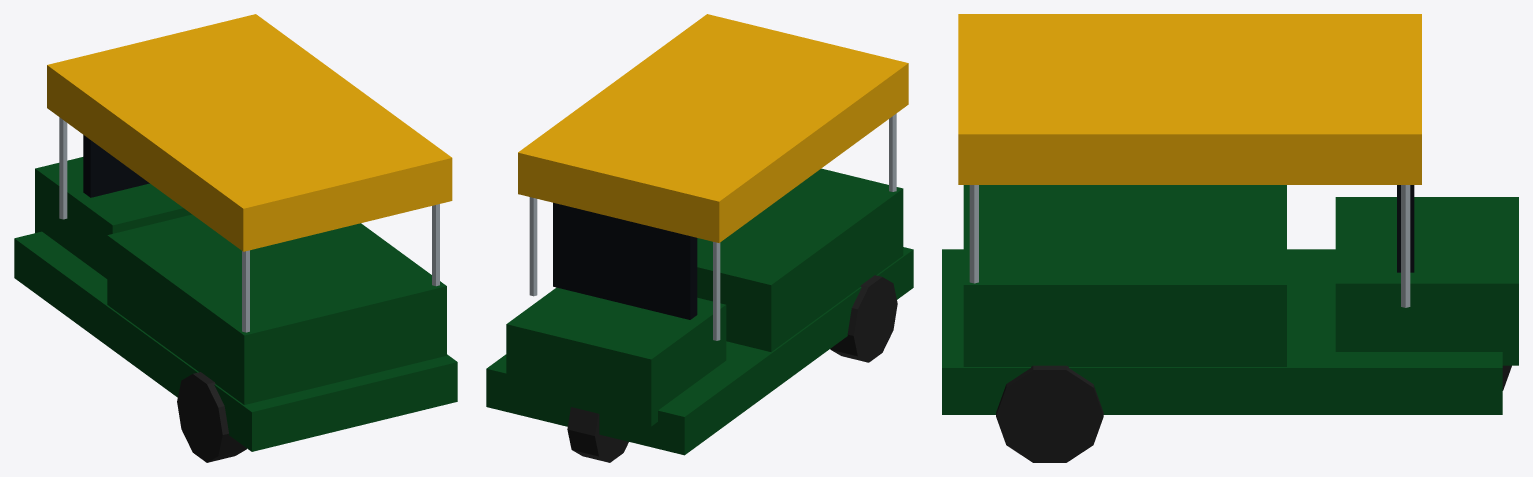
The model's file is auto_rickshaw.fbx.
3 views of the same model, side by side, from view 1: azimuth 30°, elevation 25°; view 2: azimuth 150°, elevation 25°; view 3: azimuth 270°, elevation 25° (orthographic). The views are drawn at different scales.
Parts seen in each view (by area): view 1: auto_rickshaw; view 2: auto_rickshaw; view 3: auto_rickshaw.
Part boxes in pixels (x1,y1,x2,y2): auto_rickshaw: [14, 14, 457, 462]; auto_rickshaw: [486, 14, 913, 462]; auto_rickshaw: [942, 14, 1518, 462].
Size of the model in its own units: 1.38 by 1.67 by 2.68.
